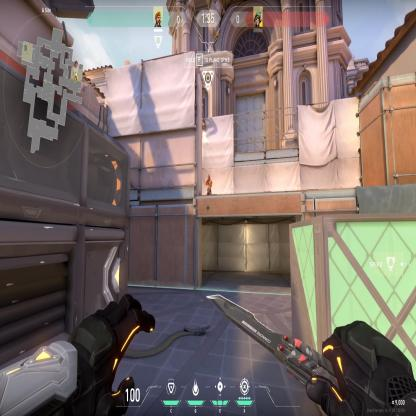enemy: (204, 173, 212, 196)
